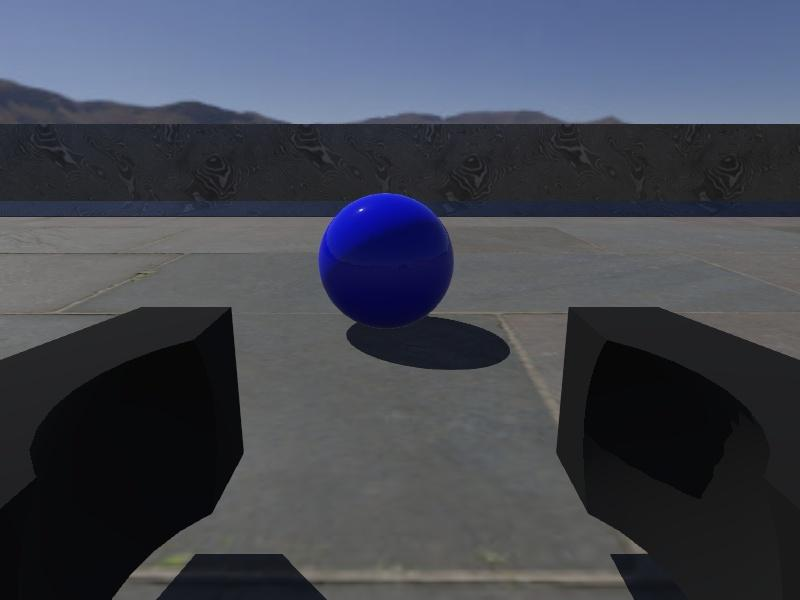blue ball: (318, 192, 455, 330)
